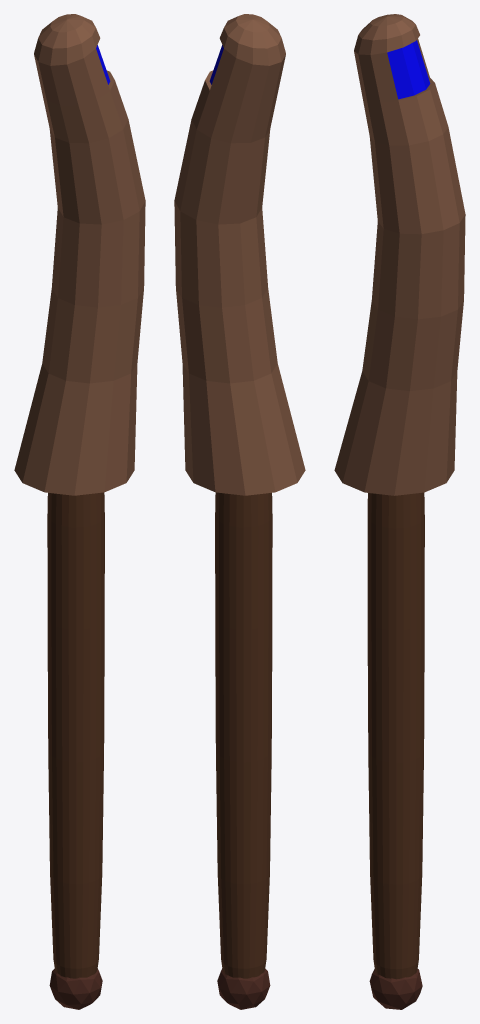
File: Wand 40.glb
3 renders of one model, left to right at view 1: azimuth 30°, elevation 25°; view 2: azimuth 150°, elevation 25°; view 3: azimuth 330°, elevation 25°, orthographic.
Parts seen in each view (by area): view 1: GeneratedWand; view 2: GeneratedWand; view 3: GeneratedWand.
Boxes of the visible parts, <box> form: GeneratedWand: <box>14,14,145,1009</box>; GeneratedWand: <box>174,14,305,1009</box>; GeneratedWand: <box>334,14,465,1009</box>.
Bounding box in the file's own units: 0.0644 × 0.5196 × 0.0572.
